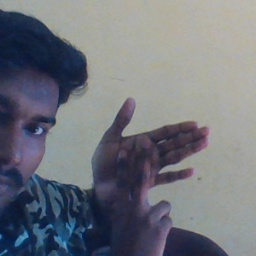N: (85, 97, 211, 224)
